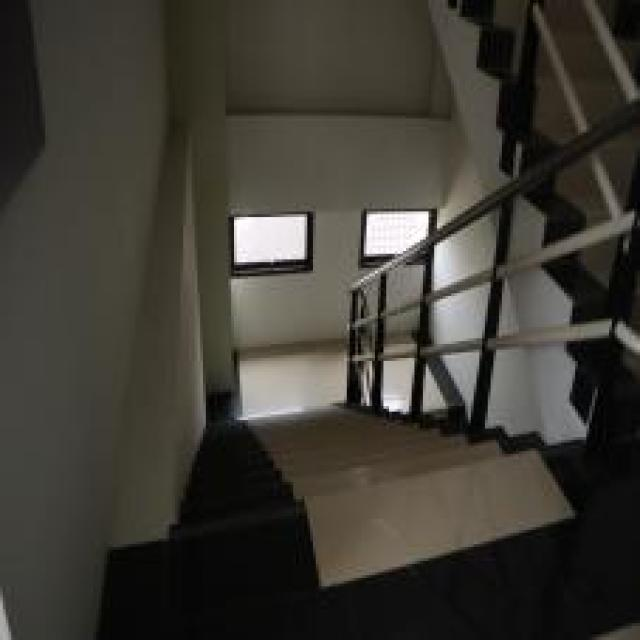downstair: (193, 441, 548, 638)
